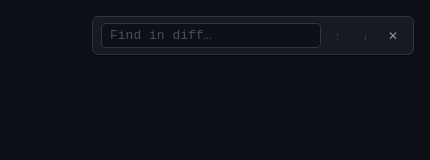
Test: SearchBar › match count label › shows "No results" when there are no matches
Type "xyz" into the field named "Search diff content" at [211, 36], box [101,23,321,48]
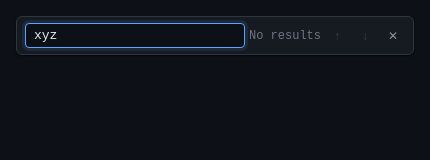
Result: the text "No results" is shown at [249,28,321,42]
